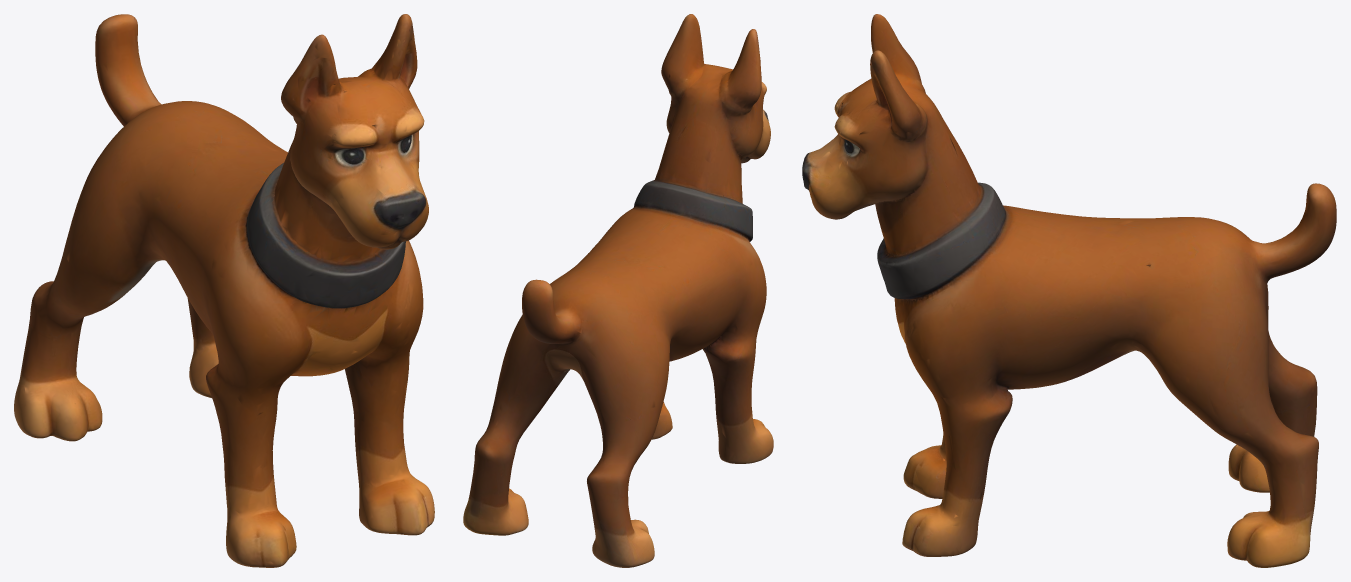
File: doberman.glb
3 renders of one model, left to right at view 1: azimuth 30°, elevation 25°; view 2: azimuth 150°, elevation 25°; view 3: azimuth 270°, elevation 25°, orthographic. The views are drawn at different scales.
Bounding box in the file's own units: 0.9541 × 2 × 2.
1 material, 1 textured.
